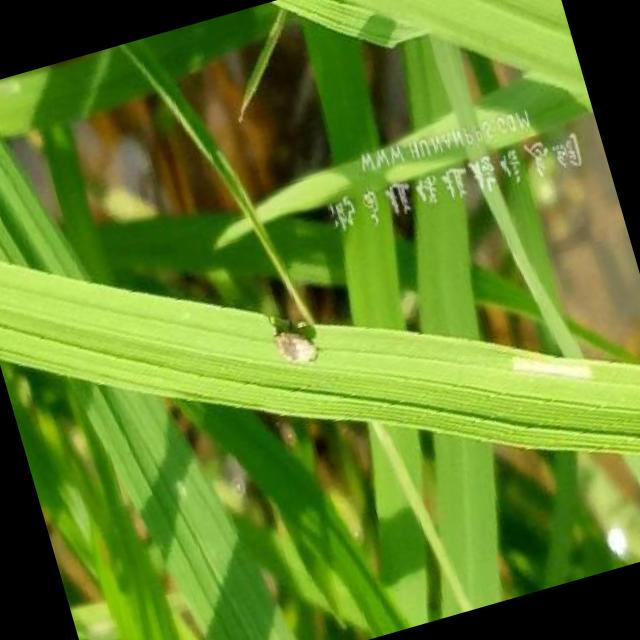rice-bug: (267, 312, 322, 378)
